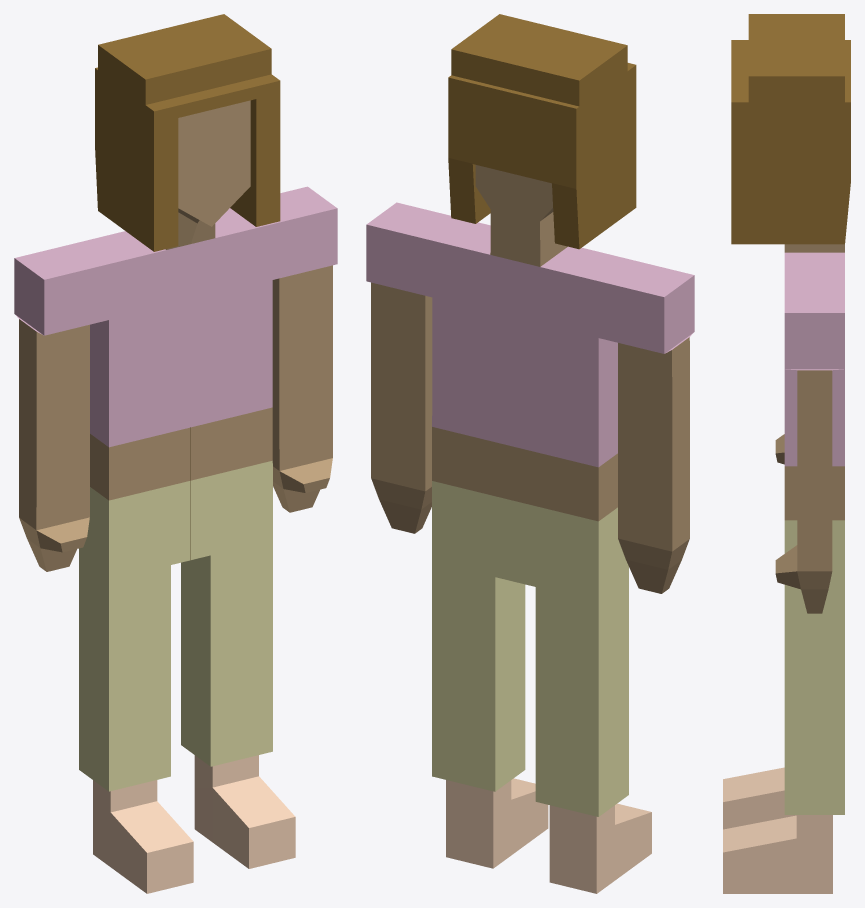
The model's file is Human_female.fbx.
The picture shows the model from 3 angles, left to right: view 1: azimuth 30°, elevation 25°; view 2: azimuth 150°, elevation 25°; view 3: azimuth 270°, elevation 25°; orthographic projection.
Parts seen in each view (by area): view 1: Cube; view 2: Cube; view 3: Cube.
Boxes of the visible parts, left/top/right/bottom form: Cube: left=14, top=14, right=337, bottom=893; Cube: left=366, top=14, right=694, bottom=893; Cube: left=723, top=14, right=850, bottom=893.
Bounding box in the file's own units: 761 × 1968 × 281.
